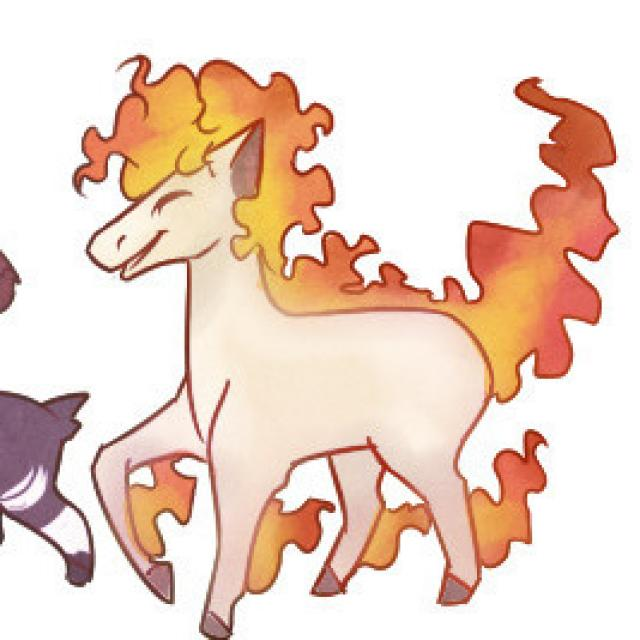Ponyta: (84, 76, 516, 626)
